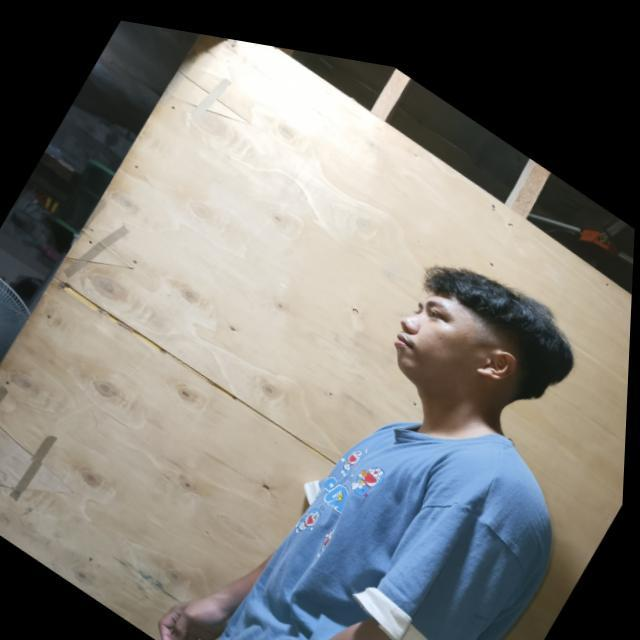Nonhelmet: (383, 250, 587, 430)
